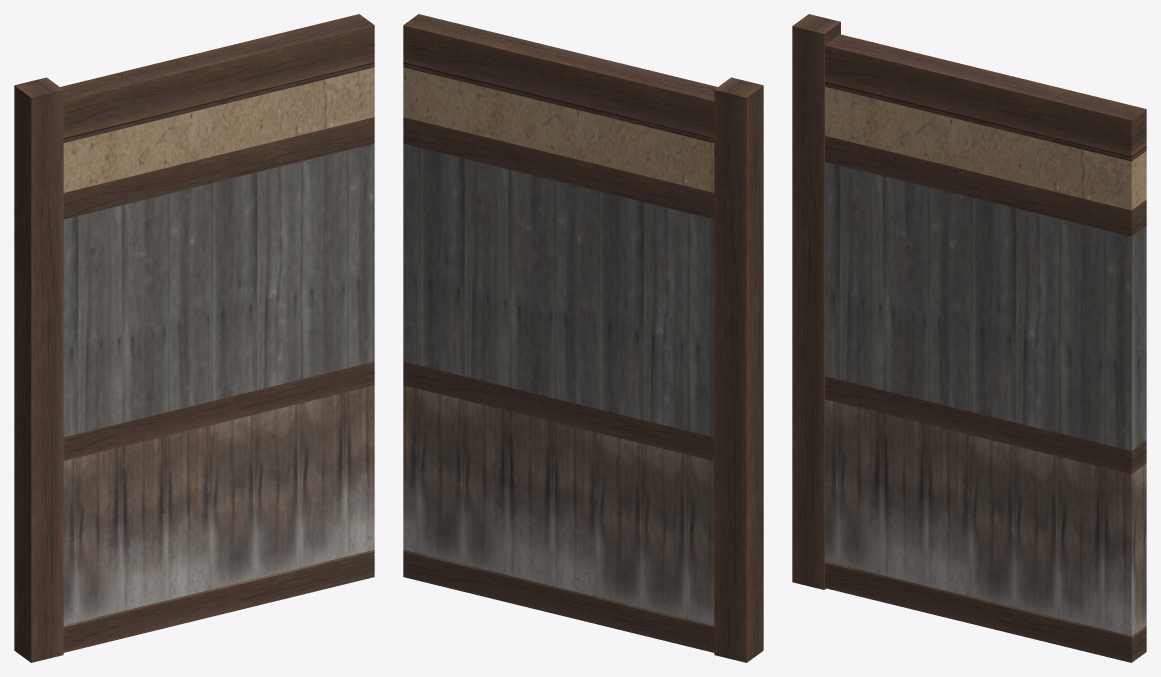
The model's file is fence10e_1t.fbx.
3 views of the same model, side by side, from view 1: azimuth 30°, elevation 25°; view 2: azimuth 150°, elevation 25°; view 3: azimuth 330°, elevation 25° (orthographic).
Visible parts, largest first — view 1: fence10e_1t; view 2: fence10e_1t; view 3: fence10e_1t.
Part boxes in pixels (bbox=[...]): fence10e_1t: bbox=[14, 14, 374, 662]; fence10e_1t: bbox=[403, 14, 763, 662]; fence10e_1t: bbox=[792, 14, 1146, 662].
Bounding box in the file's own units: 221 × 346 × 18.84.
